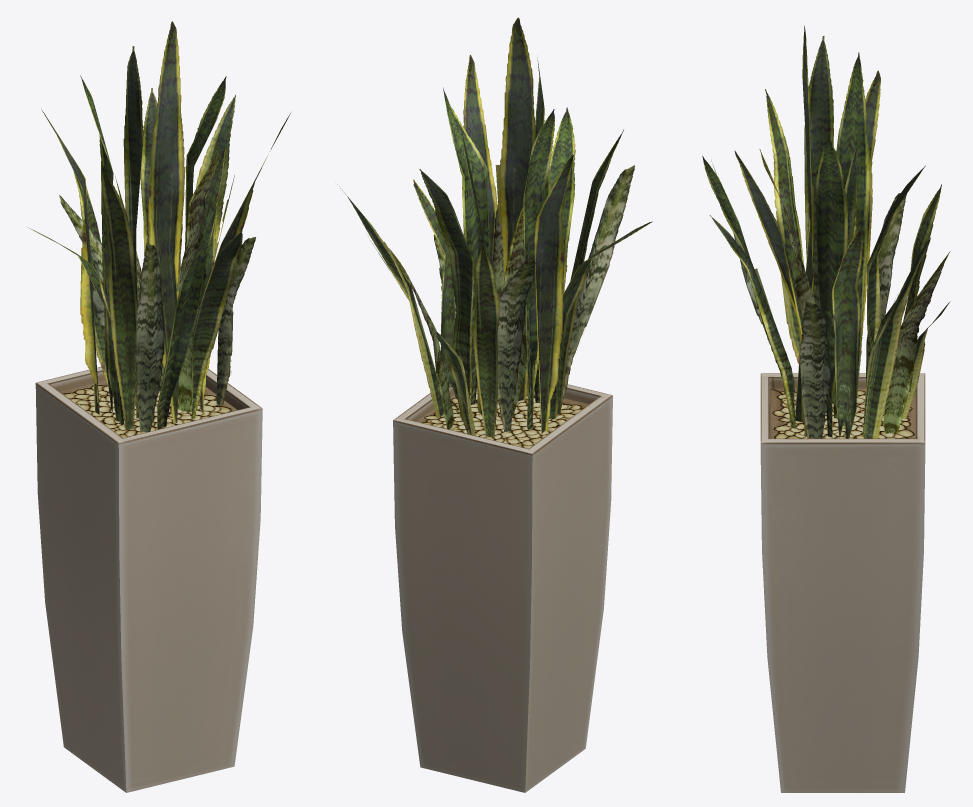
Rendered from Potted04.FBX.
3 renders of one model, left to right at view 1: azimuth 30°, elevation 25°; view 2: azimuth 150°, elevation 25°; view 3: azimuth 270°, elevation 25°, orthographic. The views are drawn at different scales.
Parts seen in each view (by area): view 1: Potted0402, Potted0401, Potted04012; view 2: Potted0402, Potted0401, Potted04012; view 3: Potted0402, Potted0401, Potted04012.
Boxes of the visible parts, <box> form: Potted0402: <box>35,367,262,792</box>; Potted0401: <box>27,21,290,432</box>; Potted04012: <box>46,21,285,432</box>; Potted0402: <box>393,380,612,792</box>; Potted0401: <box>337,17,652,438</box>; Potted04012: <box>363,18,646,437</box>; Potted0402: <box>760,373,925,792</box>; Potted0401: <box>702,25,950,438</box>; Potted04012: <box>703,36,948,438</box>.
Bounding box in the file's own units: 80.25 × 66.33 × 200.
